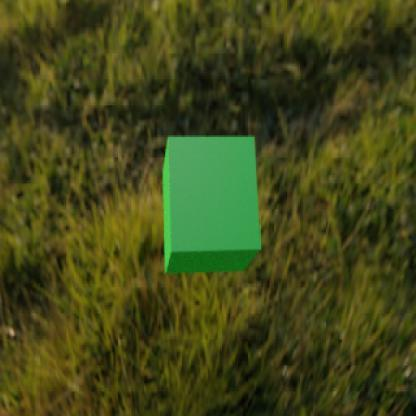cube: (161, 135, 260, 274)
